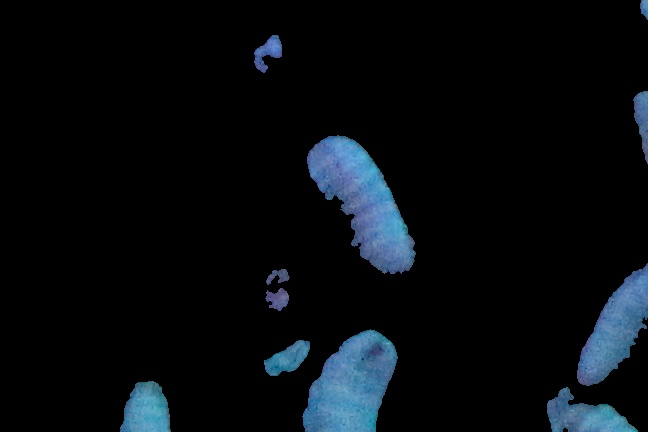larvae: (295, 130, 437, 278), (570, 246, 648, 388), (296, 332, 402, 432), (115, 378, 172, 432)
